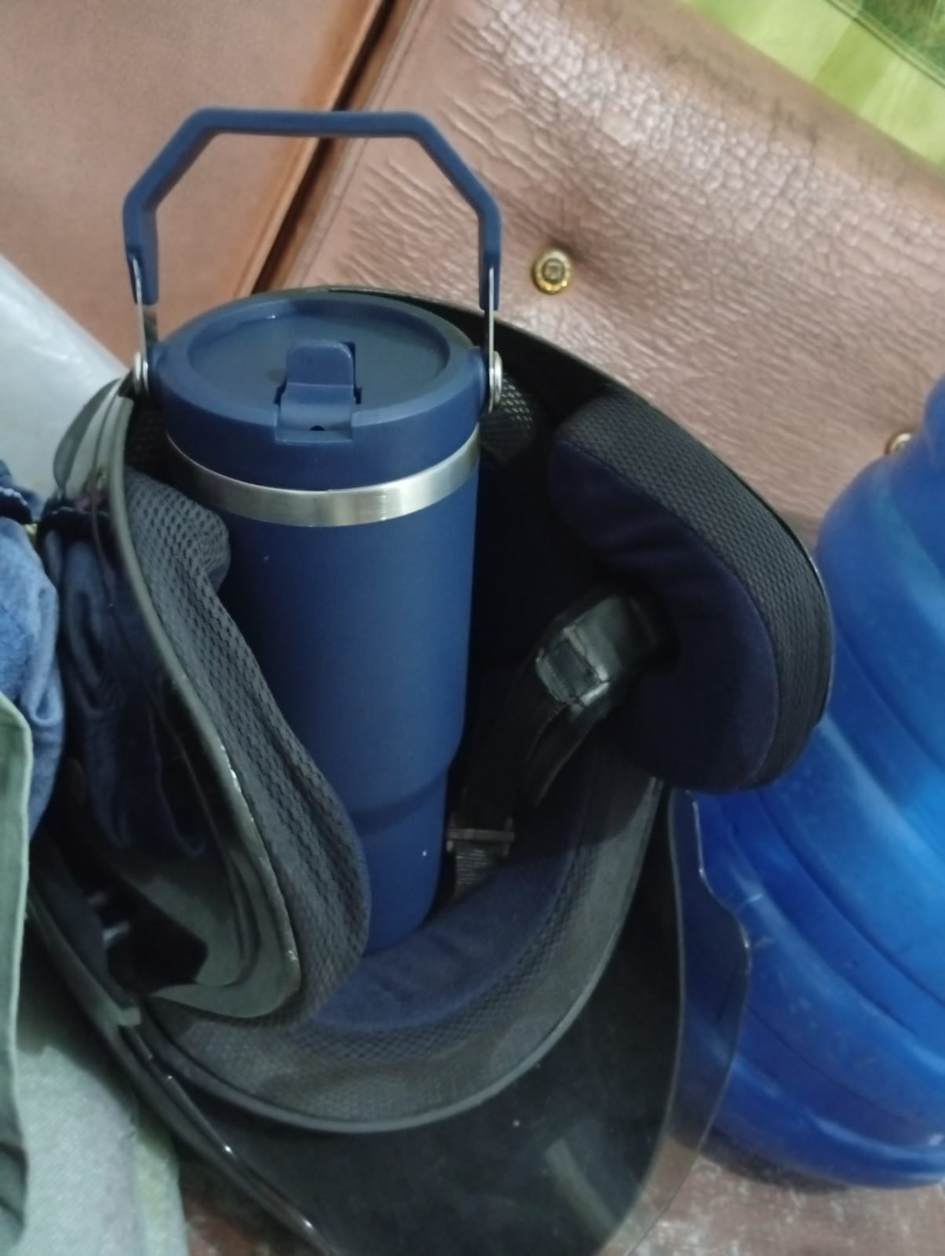Tupperware: (78, 65, 609, 965)
